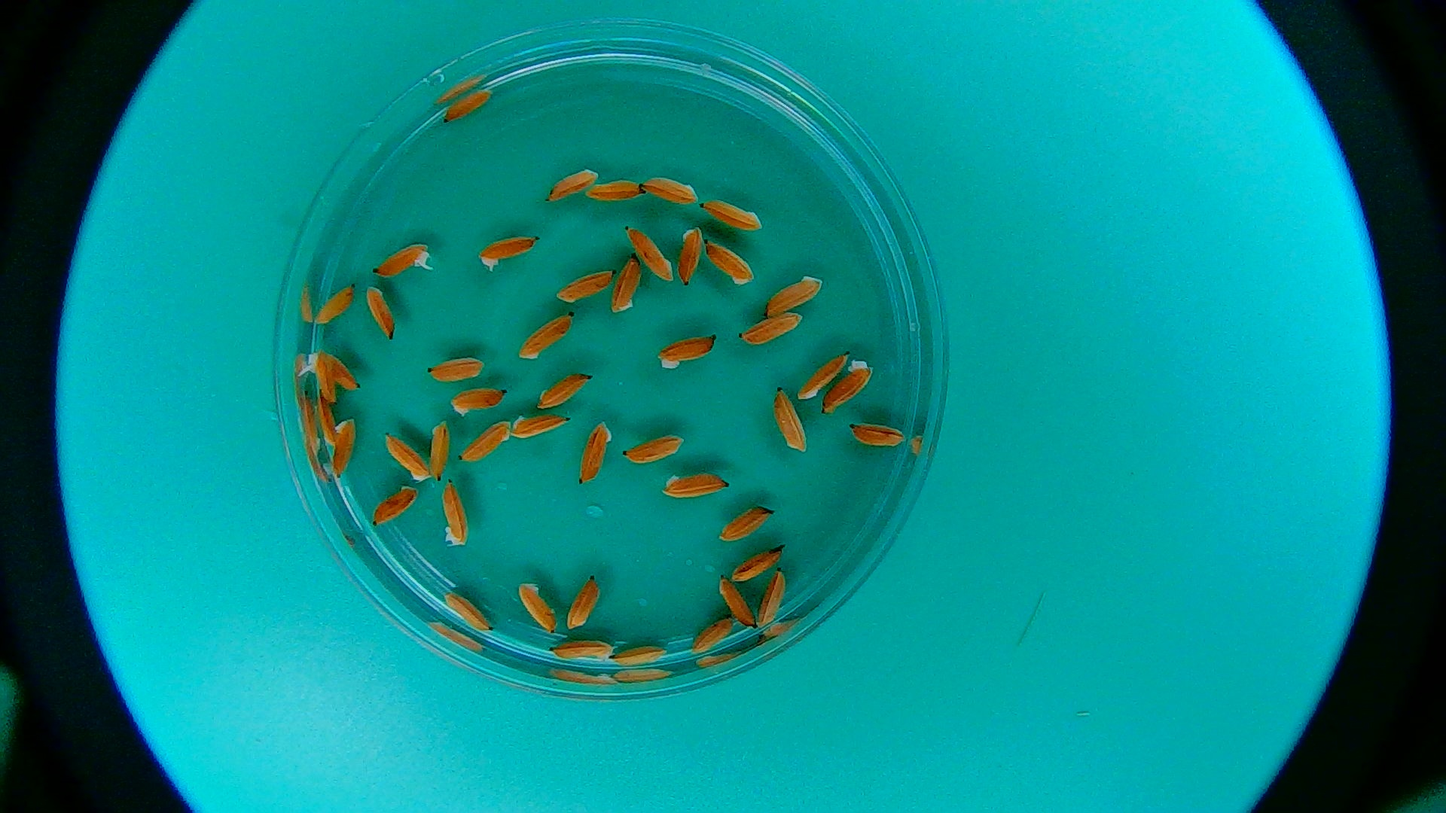no: (622, 221, 676, 285), (822, 358, 877, 416), (380, 427, 431, 486), (768, 385, 810, 455), (517, 313, 579, 359), (765, 271, 824, 318), (653, 332, 721, 372), (797, 349, 848, 402), (477, 235, 544, 275), (512, 579, 559, 636), (440, 479, 475, 552), (442, 585, 496, 632), (578, 419, 615, 487), (718, 501, 775, 544), (715, 573, 758, 630), (457, 418, 511, 461), (705, 241, 755, 287), (536, 370, 593, 410), (731, 544, 785, 586), (621, 434, 689, 467), (555, 268, 617, 304), (703, 196, 764, 232), (756, 565, 789, 631), (691, 615, 737, 660), (609, 251, 641, 315), (371, 486, 419, 528), (444, 385, 509, 416), (545, 166, 597, 204), (330, 414, 359, 482), (661, 472, 729, 501), (313, 349, 361, 390), (440, 88, 495, 123), (546, 638, 614, 666), (314, 285, 358, 328), (566, 577, 600, 632), (363, 285, 395, 342), (643, 175, 701, 206), (510, 413, 574, 440), (850, 421, 907, 450), (427, 355, 488, 382), (428, 418, 453, 480), (678, 222, 700, 289), (587, 179, 645, 204), (609, 645, 667, 668), (316, 392, 337, 448)
yes: (370, 241, 433, 279), (305, 348, 338, 400)
